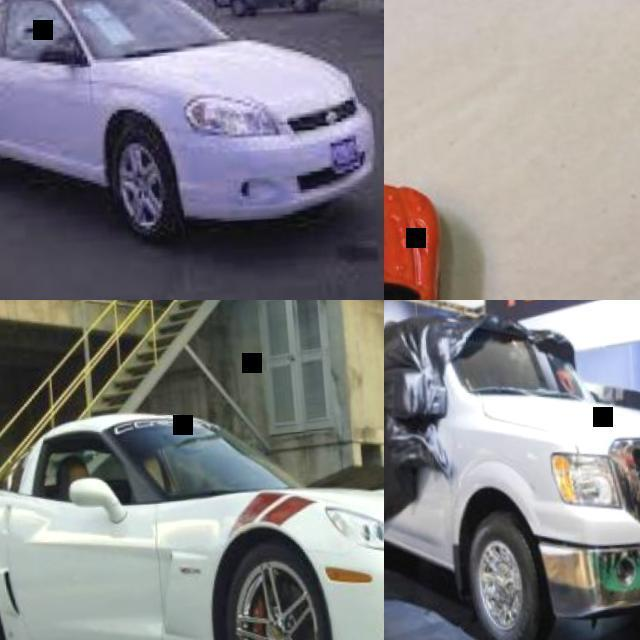car: (0, 0, 381, 240), (385, 300, 639, 636), (2, 412, 350, 638)
